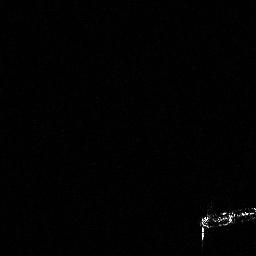ship: (196, 203, 256, 246)
